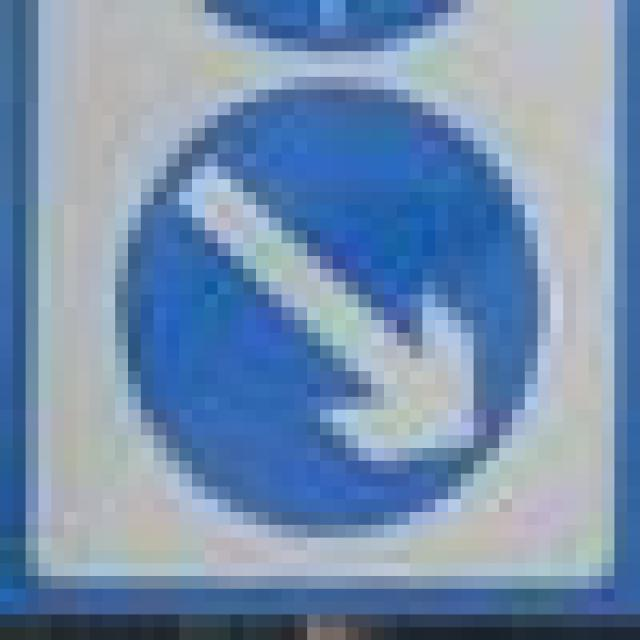compulsory_keep_left: (90, 52, 563, 550)
